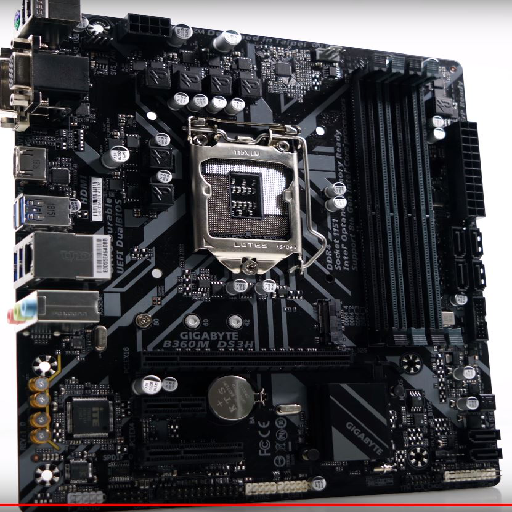CPU: (188, 140, 303, 282)
GPU: (127, 346, 372, 384)
MOTHERBOARD: (7, 8, 505, 505)
RAM: (348, 62, 465, 351)
SSD: (318, 296, 349, 347)
